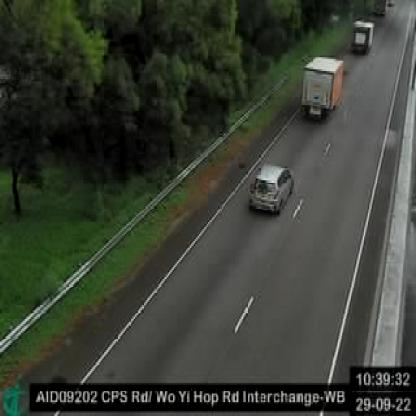Car: (244, 158, 299, 215), (348, 17, 374, 54)
Truck: (298, 54, 346, 121)
